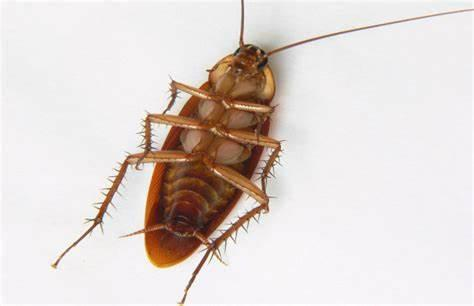cockroach: (133, 33, 285, 280)
